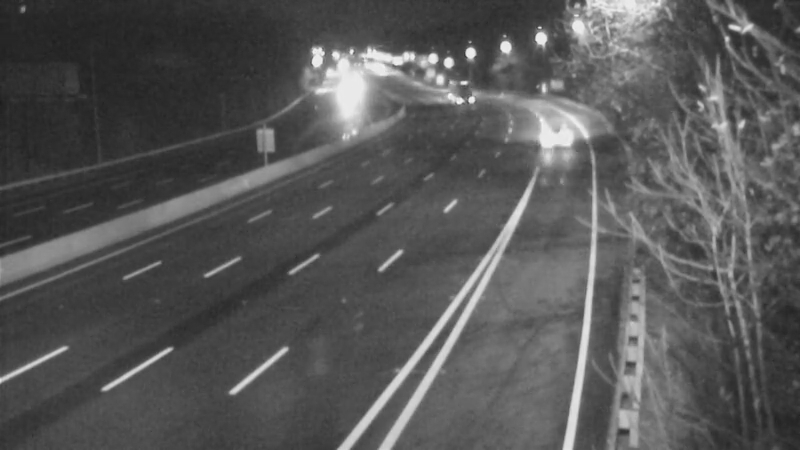vehicle: (428, 65, 478, 115), (530, 109, 580, 159), (320, 73, 370, 123)
